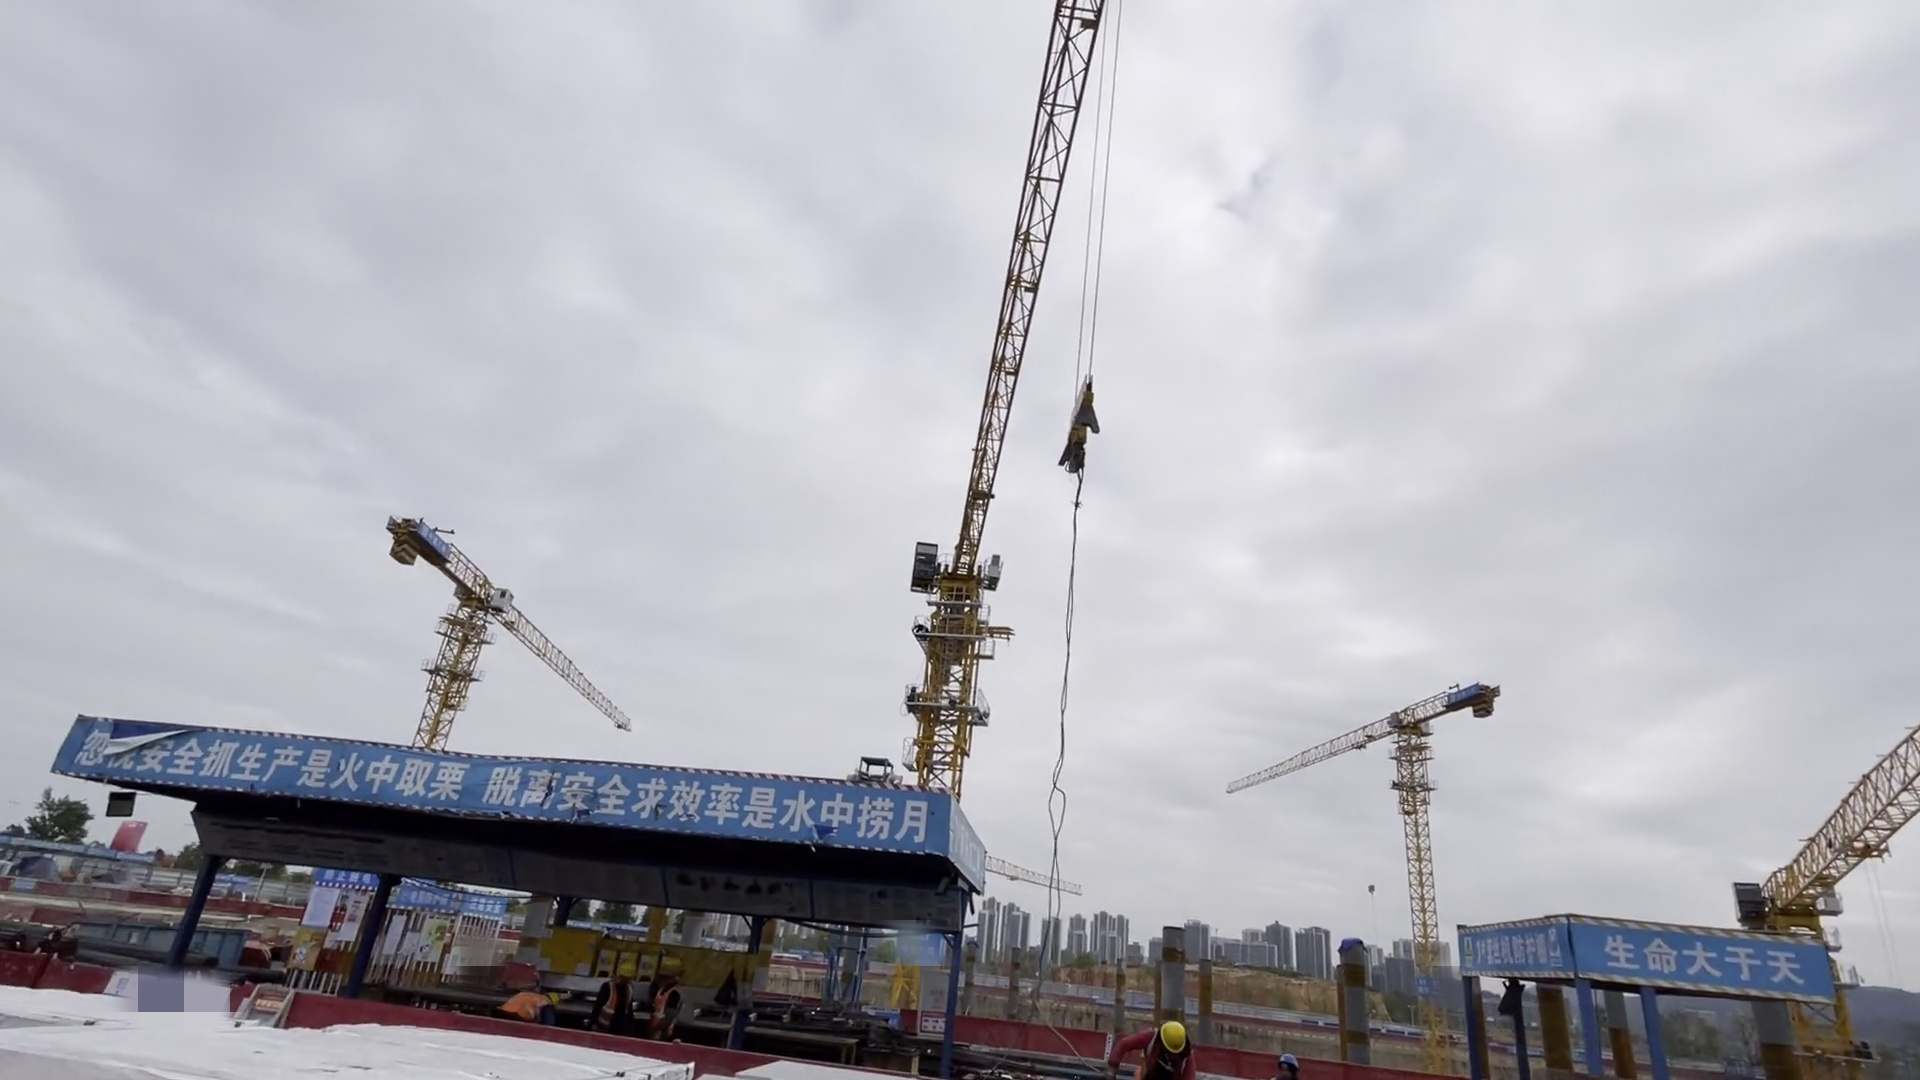helmet: (661, 949, 684, 982), (1162, 1018, 1182, 1049), (544, 985, 563, 1008), (608, 963, 628, 982)
hook: (1062, 381, 1095, 477)
person: (497, 964, 573, 1027), (647, 951, 687, 1051), (594, 944, 630, 1037)
slogan: (43, 714, 938, 855), (1460, 914, 1830, 996)
vest: (501, 978, 541, 1018), (600, 981, 631, 1027), (649, 985, 678, 1032)
